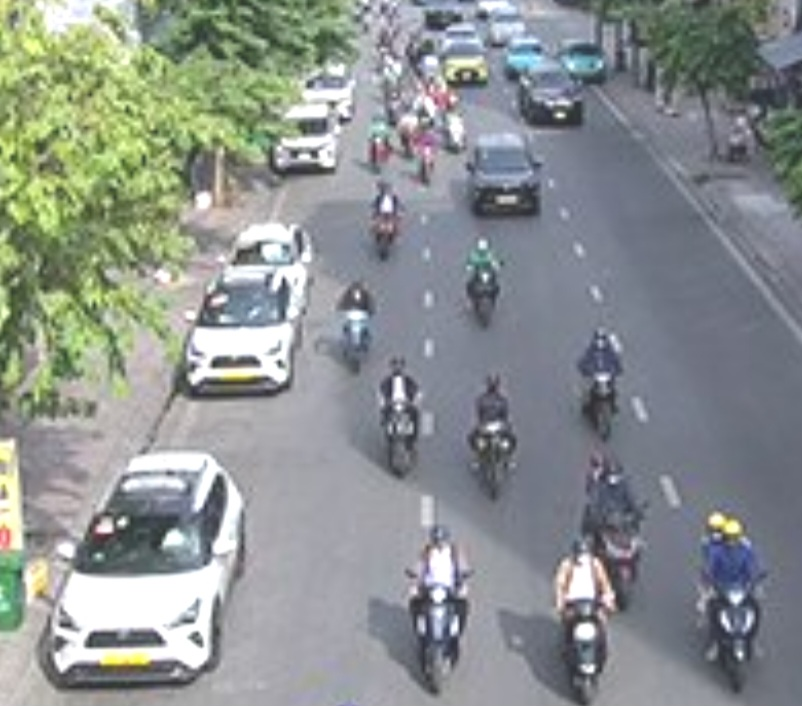car: (49, 446, 245, 688), (182, 266, 296, 397), (469, 136, 543, 218), (273, 104, 345, 177), (521, 67, 582, 126), (561, 37, 608, 83), (442, 42, 489, 87)
